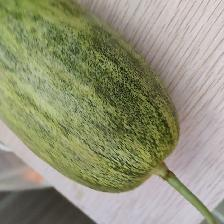gua: (17, 18, 148, 180)
